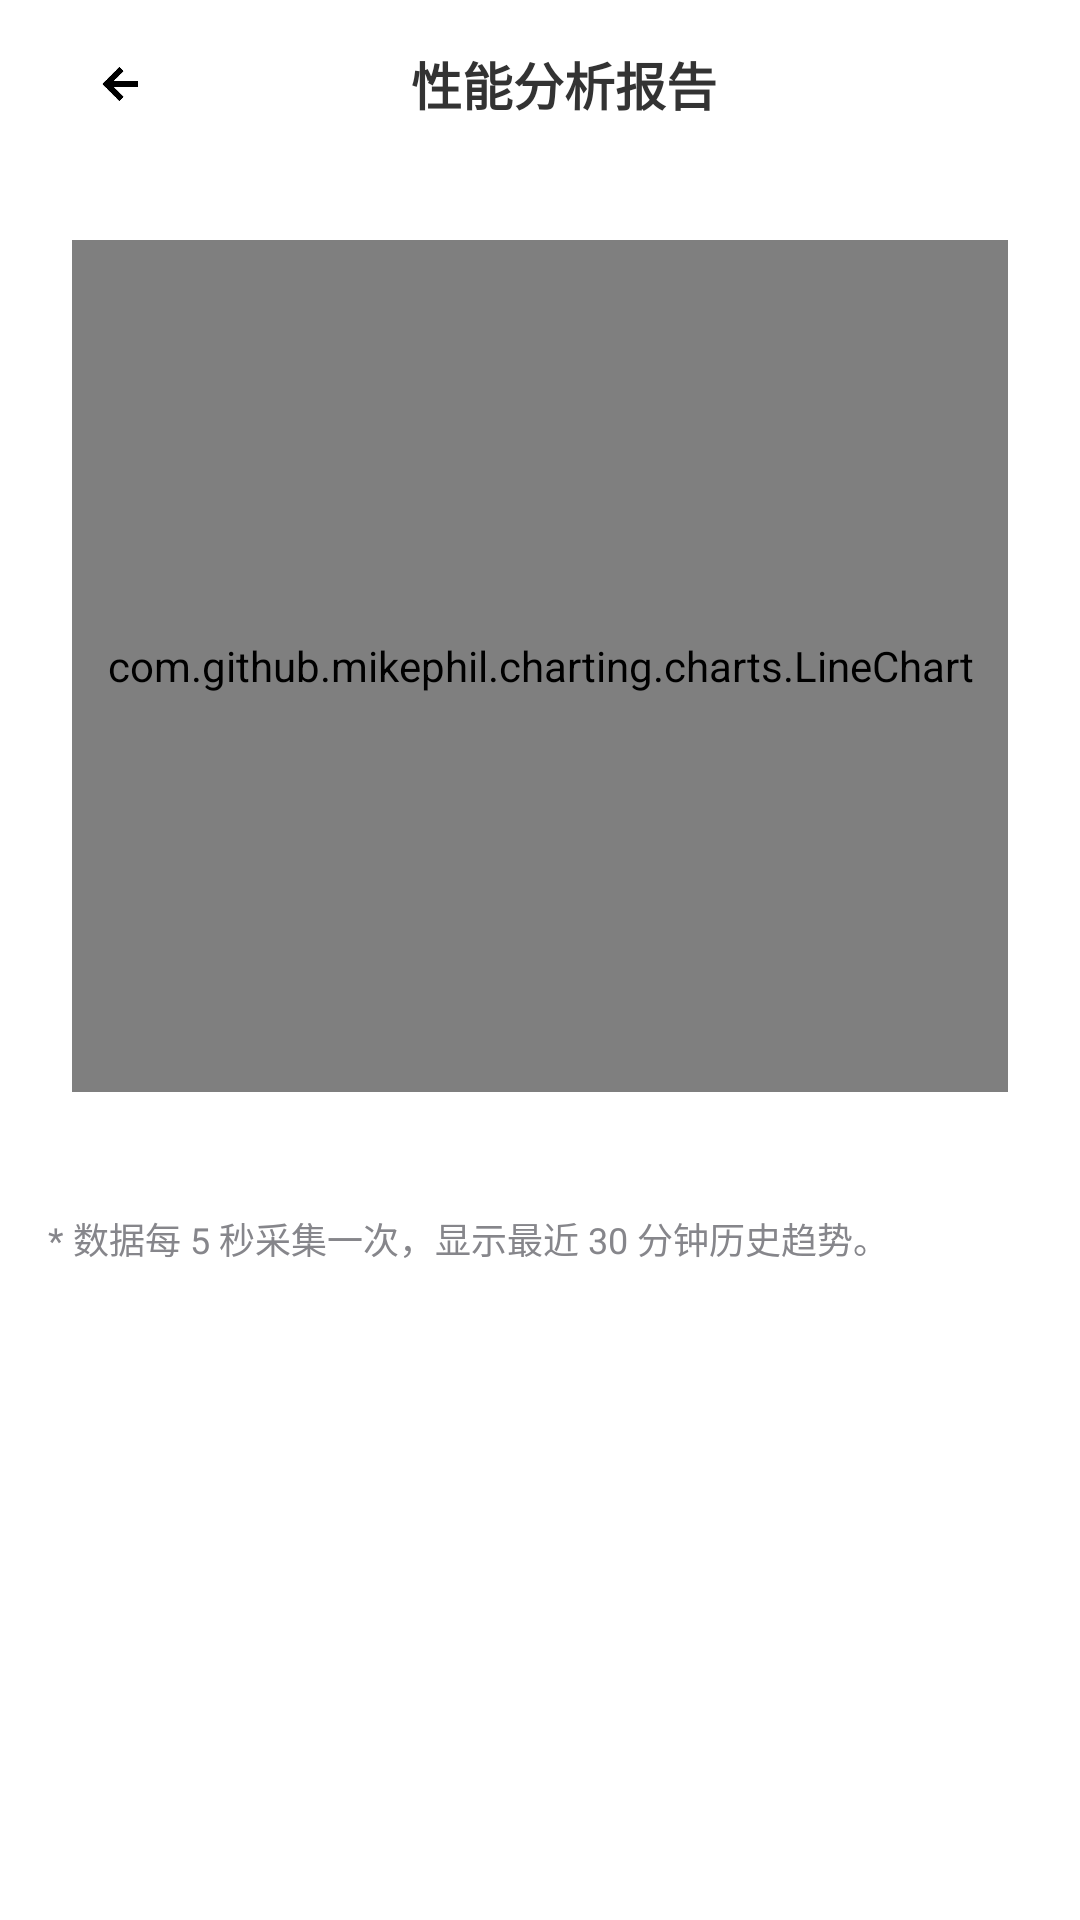

Locate icon controls on the screen. Image size 1080 x 1920, boxes as (x1, y1, x2, y2).
返回: (103, 67, 138, 101)
